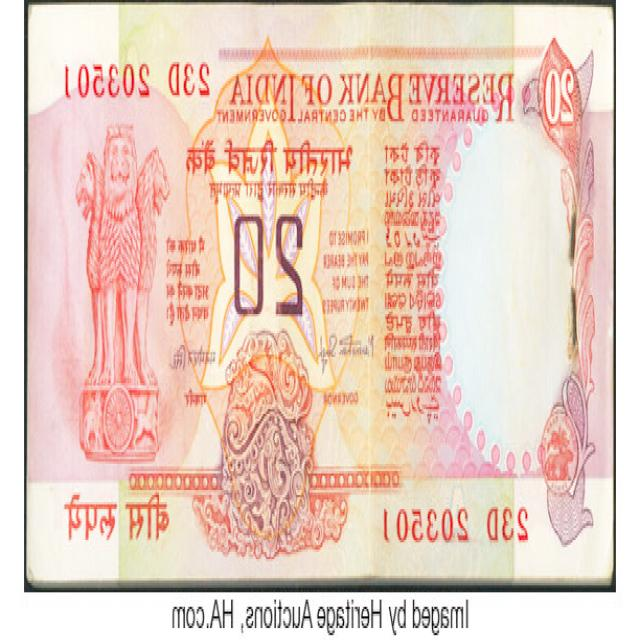20rs: (23, 0, 616, 593)
